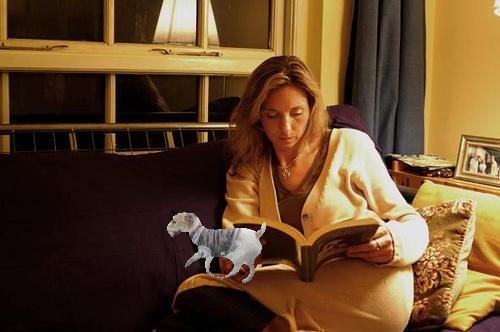tampered: (168, 213, 266, 283)
